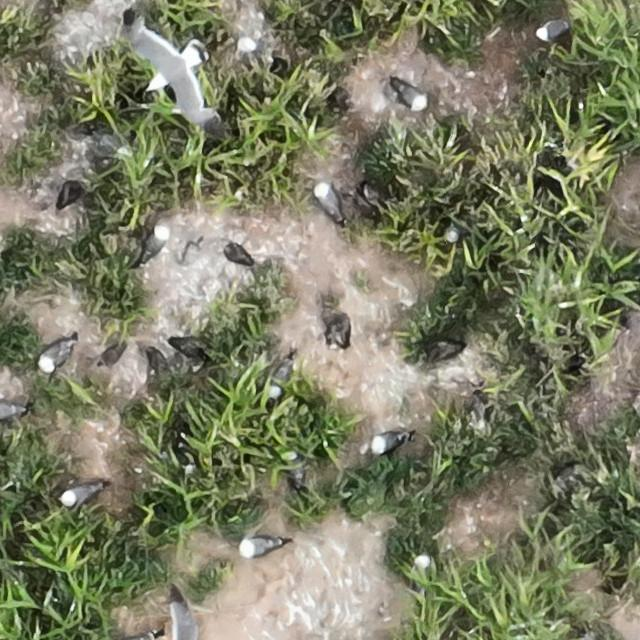F: (146, 31, 214, 120)
umineko: (135, 226, 169, 266), (283, 447, 306, 487), (40, 341, 69, 370), (397, 84, 428, 110), (269, 360, 290, 398), (316, 185, 339, 219), (63, 484, 99, 504), (242, 538, 278, 556), (538, 19, 568, 40), (371, 433, 402, 452), (1, 402, 22, 420), (413, 554, 432, 571)
